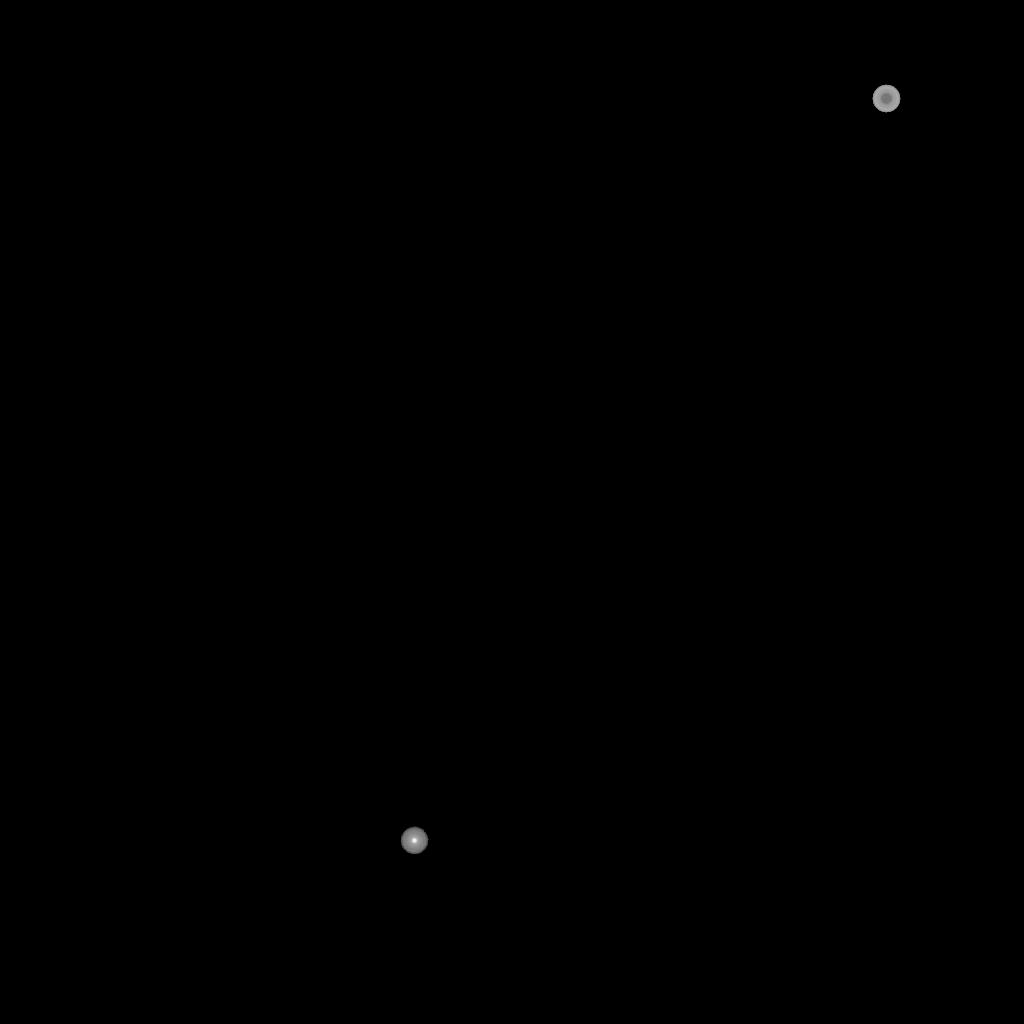depth:-10: (400, 827, 428, 855)
depth:-50: (872, 85, 900, 113)
